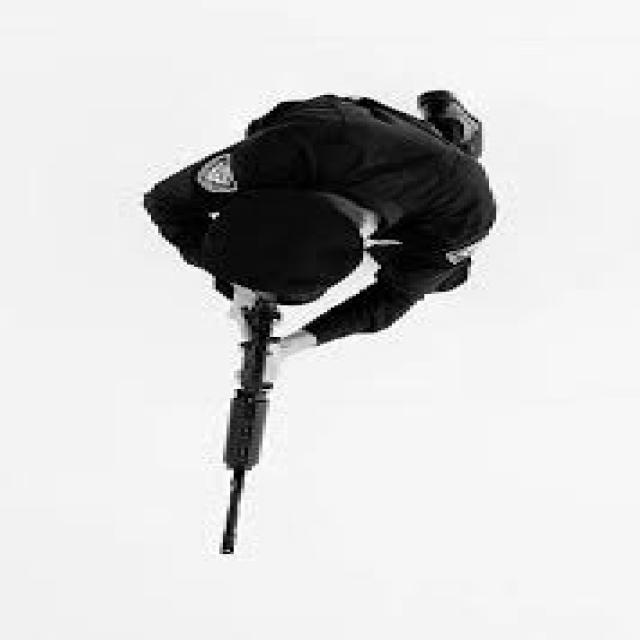gun: (225, 289, 280, 460)
